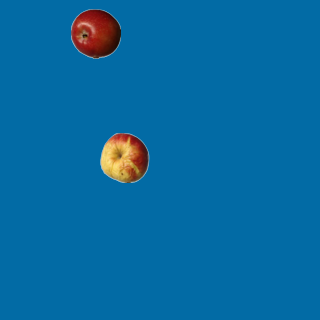Apple Braeburn: (70, 8, 120, 58)
Apple Red Yellow 1: (99, 132, 149, 182)
